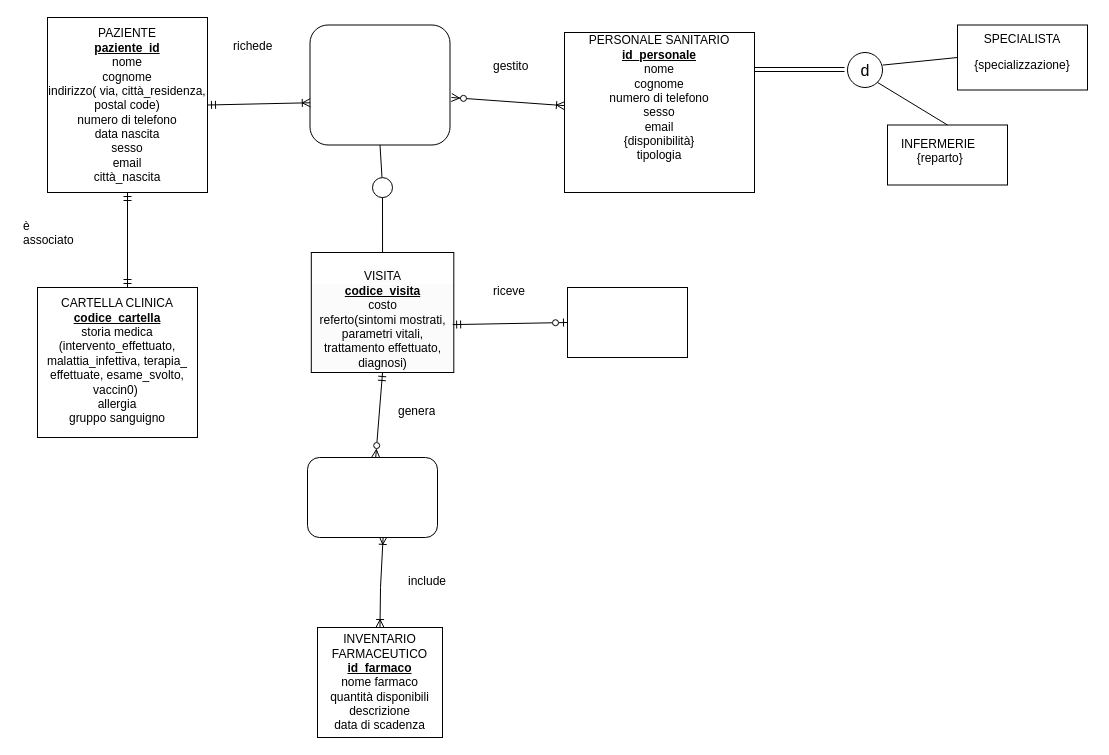
Image size: 1109x755. Some labels were removed from this diagram. Each missing label, with the centre of its shape:
"APPUNTAMENTO codice_appuntamento dataApp ora inizio ora fine giorno tipoApp" belongs at [379,84].
"FEEDBACK id_feedback rating commento" belongs at [627,322].
"PRESCRIZIONE dosaggio_mg durata_giorni" belongs at [372,497].
